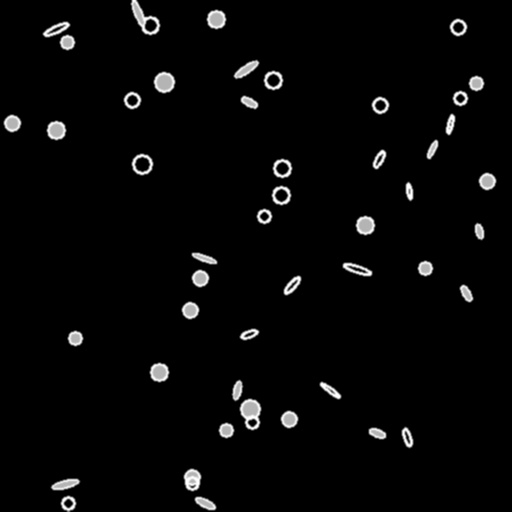pseudomonas: (233, 59, 259, 79), (42, 20, 70, 38), (130, 0, 146, 27), (342, 262, 372, 276), (51, 477, 79, 491), (191, 251, 217, 265), (320, 381, 340, 399), (283, 275, 301, 295), (195, 495, 215, 511), (372, 149, 386, 169), (459, 284, 473, 302), (240, 95, 258, 109), (231, 380, 243, 400), (401, 427, 413, 447), (426, 140, 438, 158), (368, 427, 386, 439), (240, 328, 258, 340), (445, 114, 455, 134), (474, 223, 484, 239), (405, 182, 413, 200)
synechocystis: (241, 400, 259, 418), (133, 155, 151, 173), (155, 73, 173, 91), (208, 11, 224, 27), (265, 72, 281, 88), (142, 17, 158, 33), (357, 217, 373, 233), (274, 160, 290, 176), (273, 187, 289, 203), (151, 364, 167, 380), (48, 122, 64, 138), (373, 98, 387, 112), (480, 174, 494, 188), (185, 470, 199, 484), (193, 271, 207, 285), (451, 20, 465, 34), (183, 303, 197, 317), (282, 412, 296, 426), (125, 93, 139, 107), (5, 116, 19, 130), (454, 92, 466, 104), (62, 497, 74, 509), (69, 332, 81, 344), (419, 262, 431, 274), (186, 477, 198, 489), (470, 77, 482, 89), (258, 210, 270, 222), (246, 416, 258, 428), (220, 424, 232, 436), (61, 36, 73, 48)
